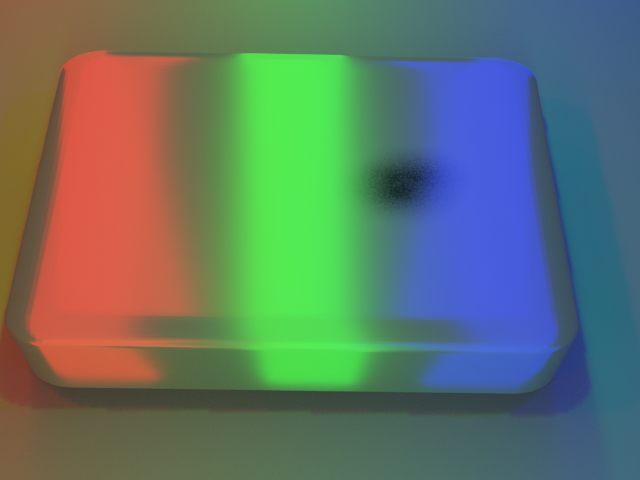stain: (308, 124, 515, 239)
